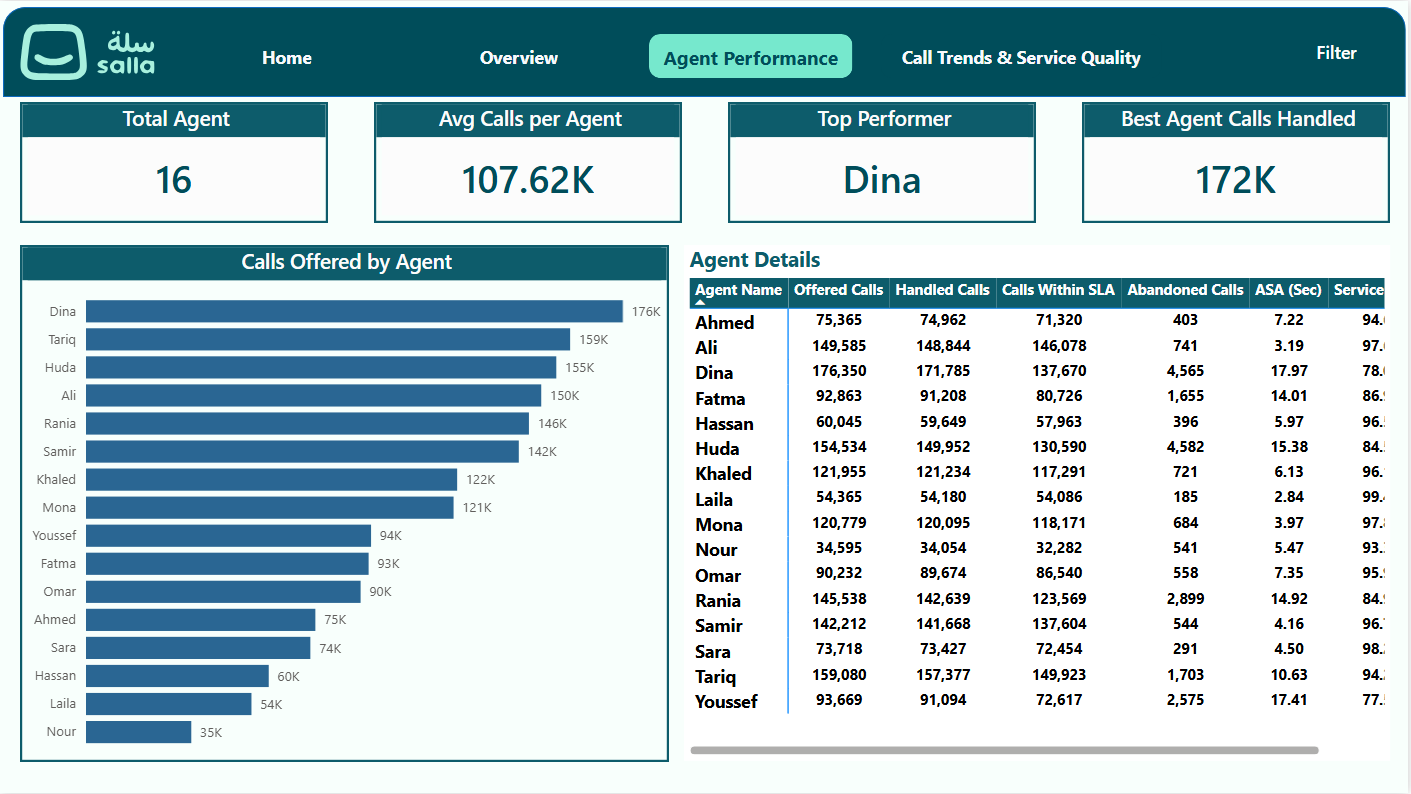

Layout of this report page (visuals, bound fields, positions):
{"tool":"powerbi","page":{"name":"Agent Performance","canvas":[1280,720],"ordinal":2},"visuals":[{"type":"shape","box":[2.3,5.8,1275.4,81.8],"z":0},{"type":"image","box":[18.4,0,123.3,92.2],"z":1000},{"type":"actionButton","box":[167.8,29.6,185,40.1],"z":2000},{"type":"actionButton","box":[378.8,29.6,185,40.1],"z":3000},{"type":"actionButton","box":[589.9,29.6,185,40.1],"z":4000},{"type":"actionButton","box":[800.9,29.6,255,40.1],"z":5000},{"type":"cardVisual","title":"Total Agent","fields":{"Data":["Measure.Total Agents"]},"box":[18.2,92.2,280,110],"z":6000},{"type":"barChart","title":"Calls Offered by Agent","fields":{"Category":["Salla Project.Agent Name"],"Y":["Measure.Total Calls Offered"]},"box":[18.2,222.1,589.9,470.3],"z":7000},{"type":"pivotTable","title":"Agent Details","fields":{"Rows":["Salla Project.Agent Name"],"Values":["Measure.Total Calls Offered","Measure.Total Calls Handled","Measure.Total Calls Handled Within Threshald","Measure.Total Calls Abandon","Measure.ASA","Measure.Service Level %"]},"box":[621.8,222.1,642.3,469.2],"z":8000},{"type":"cardVisual","title":"Top Performer","fields":{"Data":["Measure.Top Performer"]},"box":[662,92.2,280.1,110],"z":9000},{"type":"cardVisual","title":"Best Agent Calls Handled","fields":{"Data":["Measure.Best Agent Calls Handled"]},"box":[983.9,92.2,280.1,110],"z":10000},{"type":"cardVisual","title":"Avg Calls per Agent","fields":{"Data":["Measure.Avg Calls per Agent"]},"box":[340,92.2,280.1,110],"z":11000},{"type":"actionButton","box":[1164.6,30.4,100.8,32.8],"z":16000}]}

Visuals, with their boxes in screenshot pixels (x1, y1, x2, y2), scaled from the page's 1280x720 canvas onto the 1411x794 screenshot:
shape: (left=3, top=6, right=1408, bottom=97)
image: (left=20, top=0, right=156, bottom=102)
actionButton: (left=185, top=33, right=389, bottom=77)
actionButton: (left=418, top=33, right=622, bottom=77)
actionButton: (left=650, top=33, right=854, bottom=77)
actionButton: (left=883, top=33, right=1164, bottom=77)
"Total Agent" cardVisual: (left=20, top=102, right=329, bottom=223)
"Calls Offered by Agent" barChart: (left=20, top=245, right=670, bottom=764)
"Agent Details" pivotTable: (left=685, top=245, right=1393, bottom=762)
"Top Performer" cardVisual: (left=730, top=102, right=1039, bottom=223)
"Best Agent Calls Handled" cardVisual: (left=1085, top=102, right=1393, bottom=223)
"Avg Calls per Agent" cardVisual: (left=375, top=102, right=684, bottom=223)
actionButton: (left=1284, top=34, right=1395, bottom=70)
